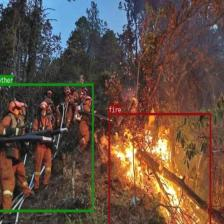fire: (108, 112, 211, 224)
